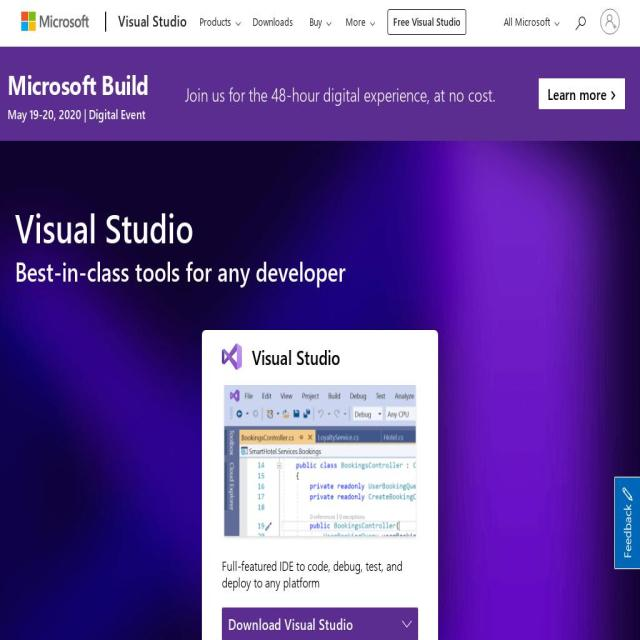button: (222, 606, 418, 640), (222, 344, 340, 384), (111, 1, 190, 46), (494, 1, 563, 42), (539, 78, 625, 110), (191, 1, 251, 42), (247, 1, 299, 41), (388, 9, 467, 35), (337, 1, 385, 42), (301, 1, 341, 42), (569, 2, 591, 40), (572, 424, 576, 448)
heading: (15, 203, 625, 250), (252, 343, 340, 370)
image: (222, 383, 418, 541), (222, 343, 242, 370), (622, 487, 632, 501)
text: (15, 252, 346, 288), (185, 80, 496, 108), (222, 557, 418, 591), (8, 66, 148, 102), (8, 104, 148, 124), (228, 614, 353, 634), (547, 84, 610, 105), (118, 12, 187, 30), (504, 14, 550, 28), (620, 500, 640, 518)
